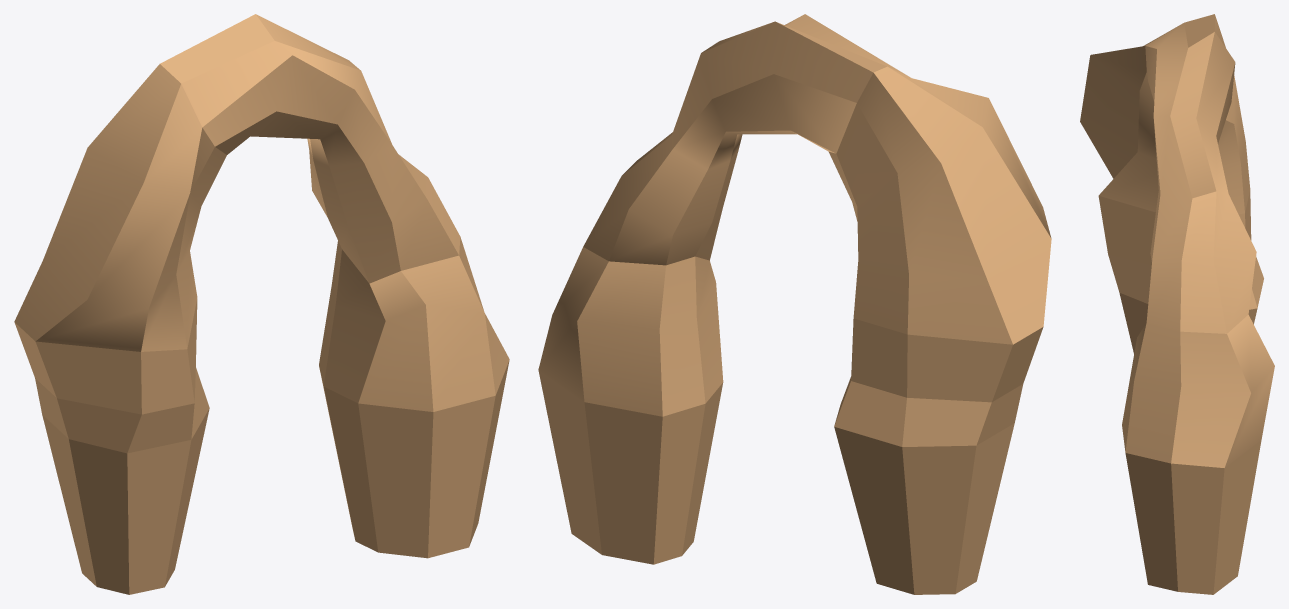
The model's file is rock.fbx.
3 renders of one model, left to right at view 1: azimuth 30°, elevation 25°; view 2: azimuth 150°, elevation 25°; view 3: azimuth 270°, elevation 25°, orthographic. The views are drawn at different scales.
Parts seen in each view (by area): view 1: pPlane1; view 2: pPlane1; view 3: pPlane1.
Boxes of the visible parts, <box> form: pPlane1: <box>14,14,509,594</box>; pPlane1: <box>538,14,1051,594</box>; pPlane1: <box>1080,14,1274,594</box>.
Bounding box in the file's own units: 12.49 × 13.93 × 5.14.
